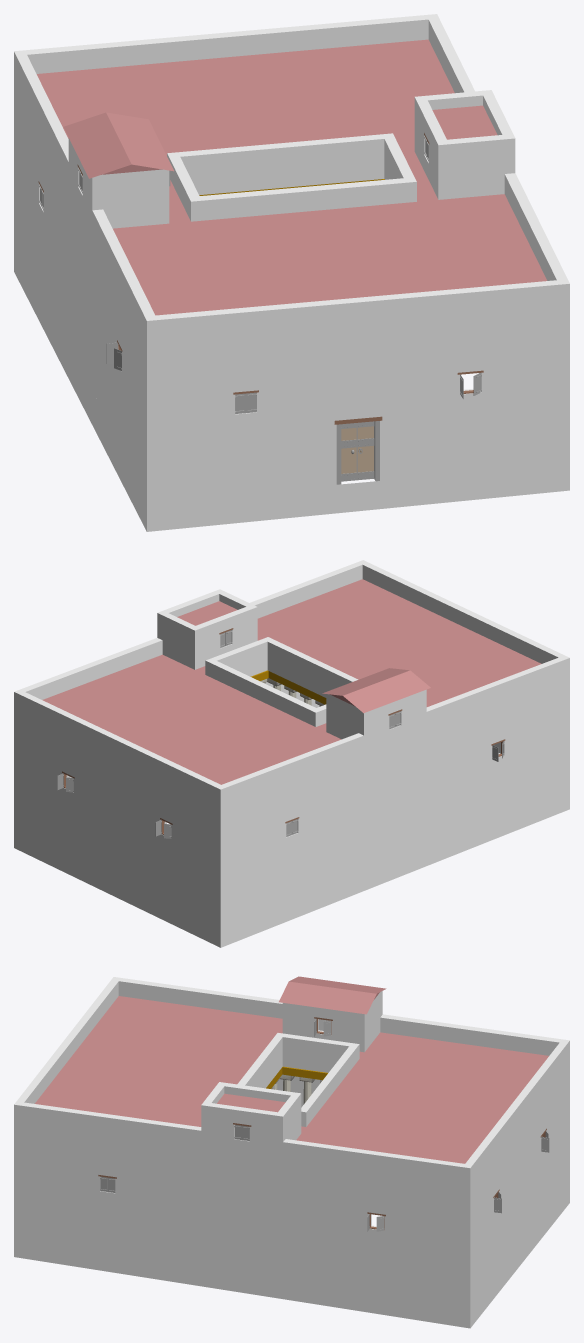
The model's file is LOD_Block_4_6.glb.
3 views of the same model, one above another, from view 1: azimuth 30°, elevation 25°; view 2: azimuth 150°, elevation 25°; view 3: azimuth 270°, elevation 25° (orthographic). The views are drawn at different scales.
Parts seen in each view (by area): view 1: _1.5843; view 2: _1.5843; view 3: _1.5843.
Part boxes in pixels (bbox=[...]): _1.5843: bbox=[14, 14, 569, 531]; _1.5843: bbox=[14, 560, 569, 947]; _1.5843: bbox=[14, 976, 569, 1328].
Bounding box in the file's own units: 27.82 × 13.22 × 34.15.
Materials: 21 (2 with a texture image).
